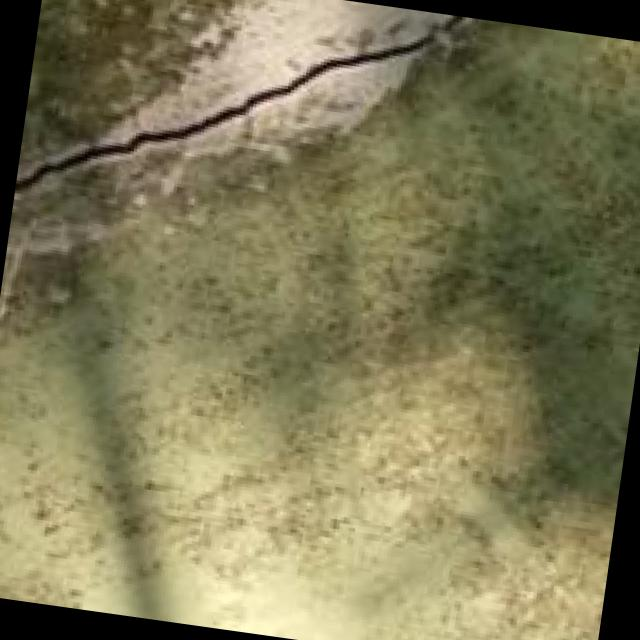crack: (13, 0, 466, 287)
